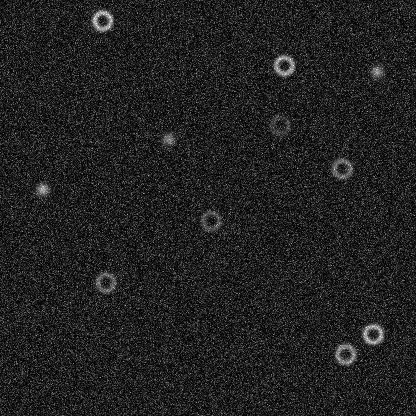Ring: (267, 113, 291, 137), (329, 156, 353, 180), (360, 321, 384, 345), (93, 270, 117, 294), (333, 341, 357, 365), (90, 8, 114, 32), (199, 208, 223, 232), (271, 53, 295, 77)
Spot: (160, 130, 176, 146), (34, 181, 50, 197), (368, 63, 384, 79)
